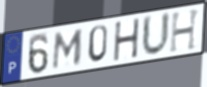0: (86, 24, 109, 65)
6: (27, 32, 50, 76)
H: (168, 7, 202, 55), (113, 16, 142, 63)
M: (50, 27, 85, 71)
U: (140, 11, 171, 58)
